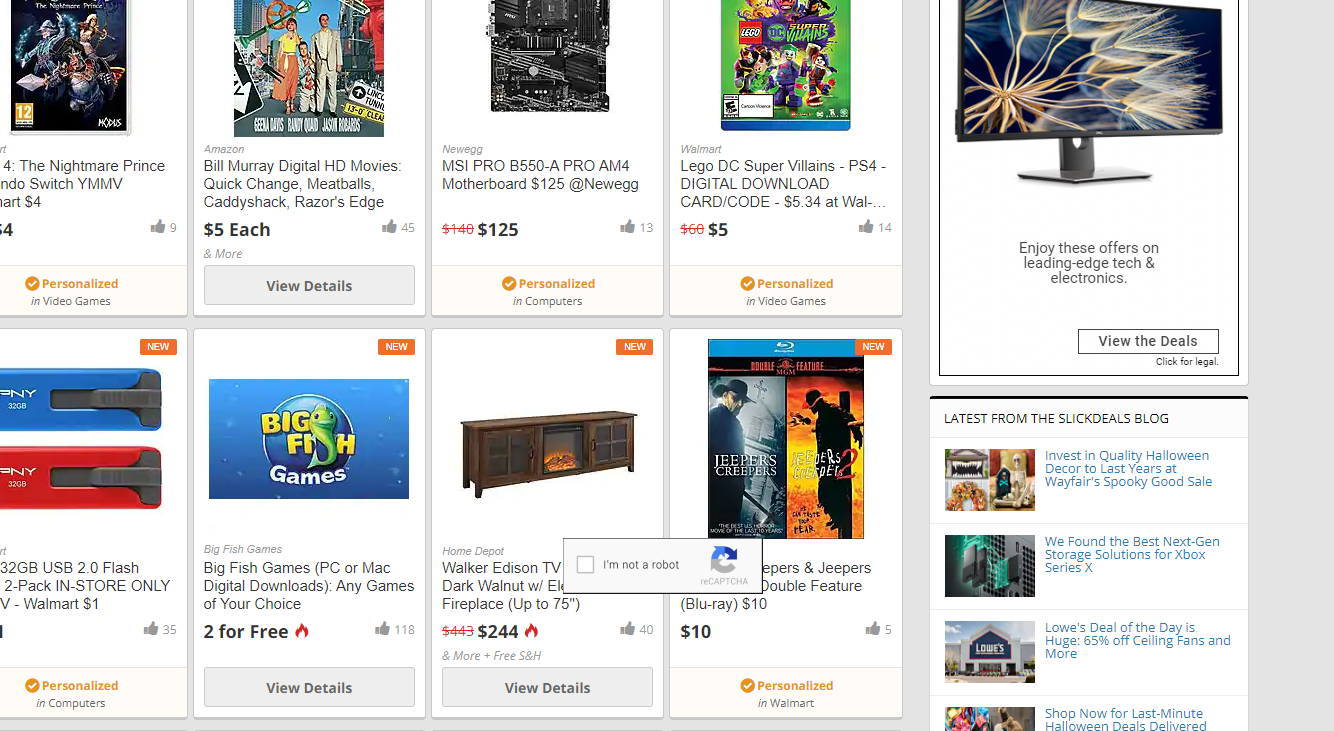captcha: (565, 539, 761, 591)
